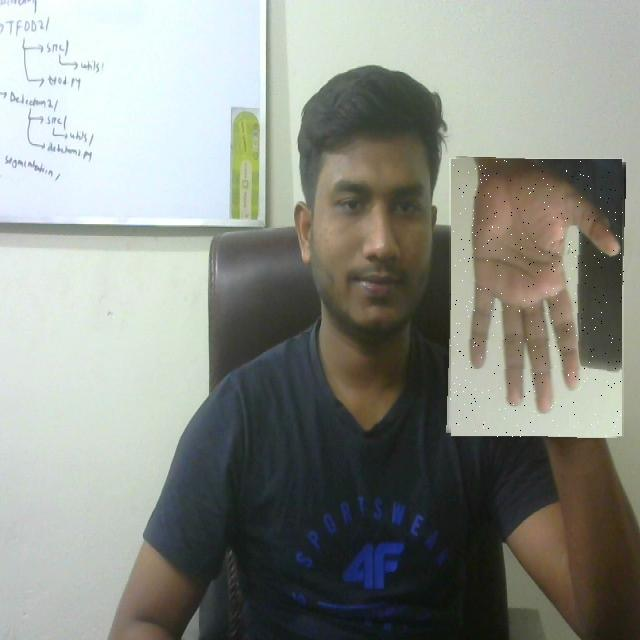Hello: (449, 158, 624, 437)
